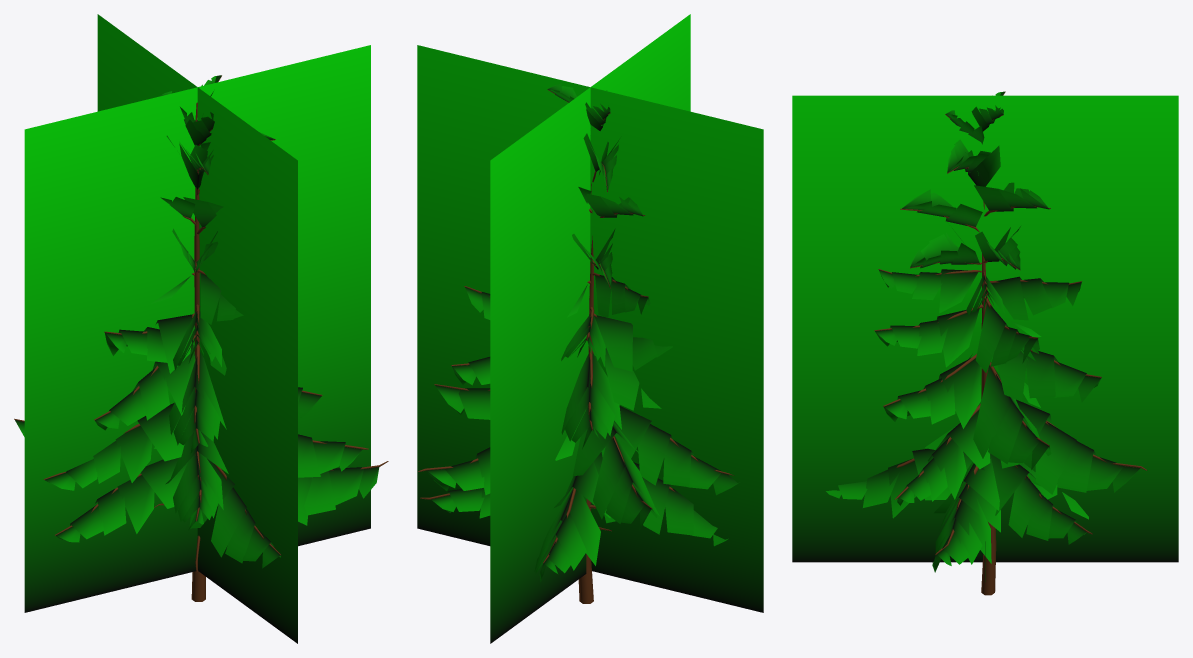
File: IL3DN_Tree_Pine_02.FBX
3 renders of one model, left to right at view 1: azimuth 30°, elevation 25°; view 2: azimuth 150°, elevation 25°; view 3: azimuth 270°, elevation 25°, orthographic. The views are drawn at different scales.
Visible parts, largest first — view 1: IL3DN_Tree_Pine_02_Card, IL3DN_Tree_Pine_02_Leaves, IL3DN_Tree_Pine_02_Branch_LOD0; view 2: IL3DN_Tree_Pine_02_Card, IL3DN_Tree_Pine_02_Leaves, IL3DN_Tree_Pine_02_Branch_LOD0; view 3: IL3DN_Tree_Pine_02_Card, IL3DN_Tree_Pine_02_Leaves, IL3DN_Tree_Pine_02_Branch_LOD0.
Boxes of the visible parts, x1,y1,x2,y2 form: IL3DN_Tree_Pine_02_Card: (24, 14, 370, 643); IL3DN_Tree_Pine_02_Leaves: (15, 75, 379, 568); IL3DN_Tree_Pine_02_Branch_LOD0: (14, 75, 388, 601); IL3DN_Tree_Pine_02_Card: (417, 14, 763, 643); IL3DN_Tree_Pine_02_Leaves: (426, 83, 739, 581); IL3DN_Tree_Pine_02_Branch_LOD0: (418, 89, 734, 603); IL3DN_Tree_Pine_02_Card: (792, 95, 1178, 581); IL3DN_Tree_Pine_02_Leaves: (826, 91, 1140, 572); IL3DN_Tree_Pine_02_Branch_LOD0: (874, 91, 1146, 595).
Size of what is drawn, in the model's own units: 236 by 336 by 236.
